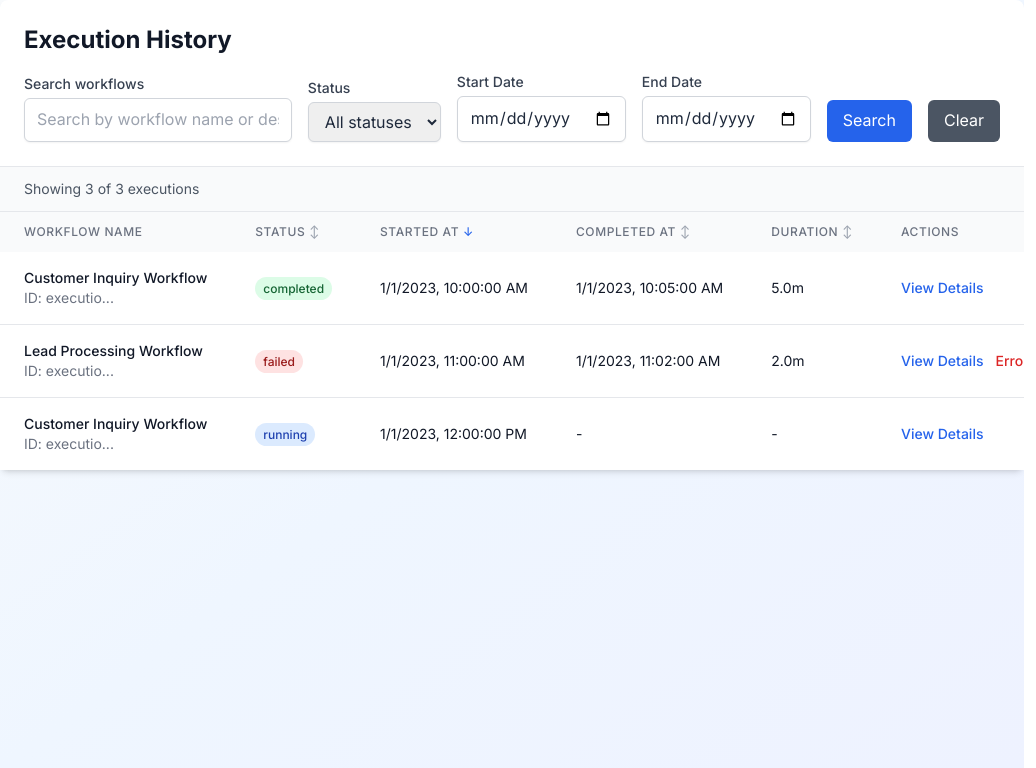
Test case: WorkflowExecutionHistory › handles clear filters
Note: Set some filters
Type "test" into the field with placeholder "Search by workflow name or description..." at coordinates (158, 120), box [24,98,292,142]
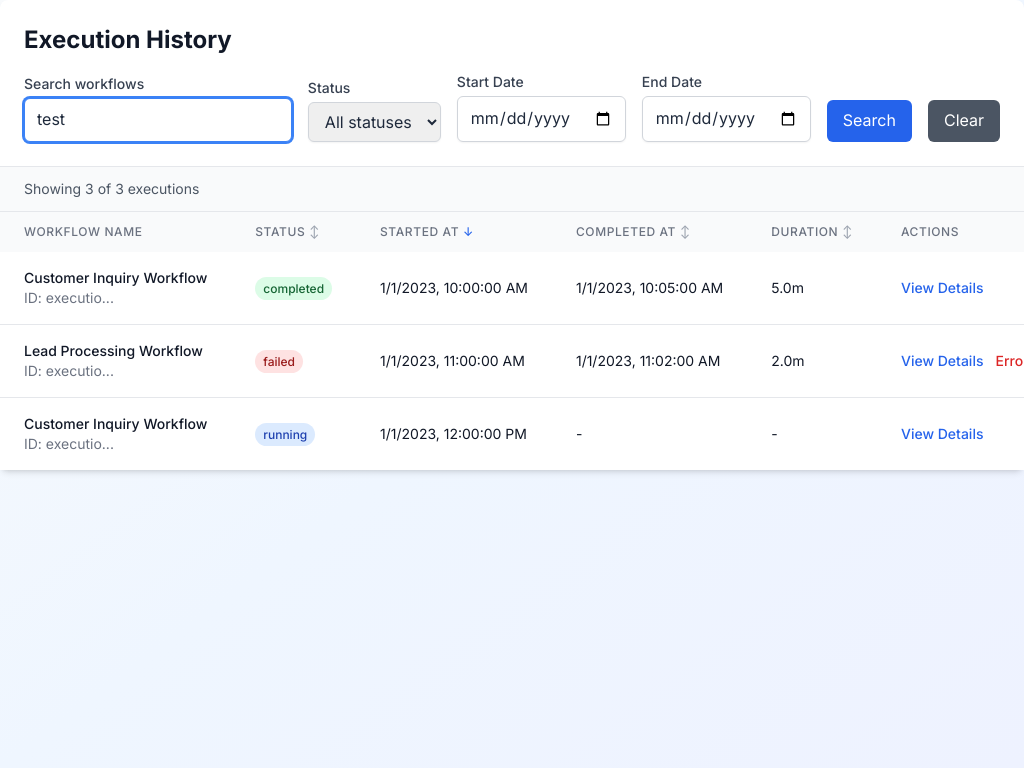
Select "Completed" in the dropdown showing "All statuses" at coordinates (374, 122), box [308,102,441,142]
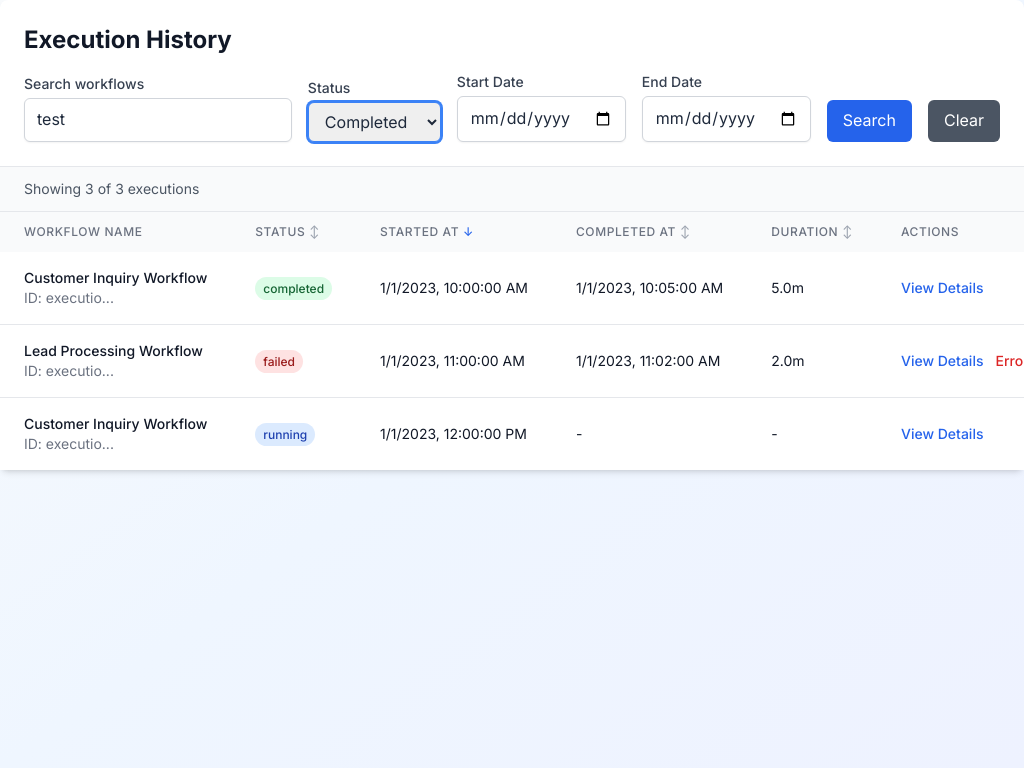
Type "2023-01-01" into the date field labelled "Start Date" at coordinates (541, 119), box [457,96,626,142]
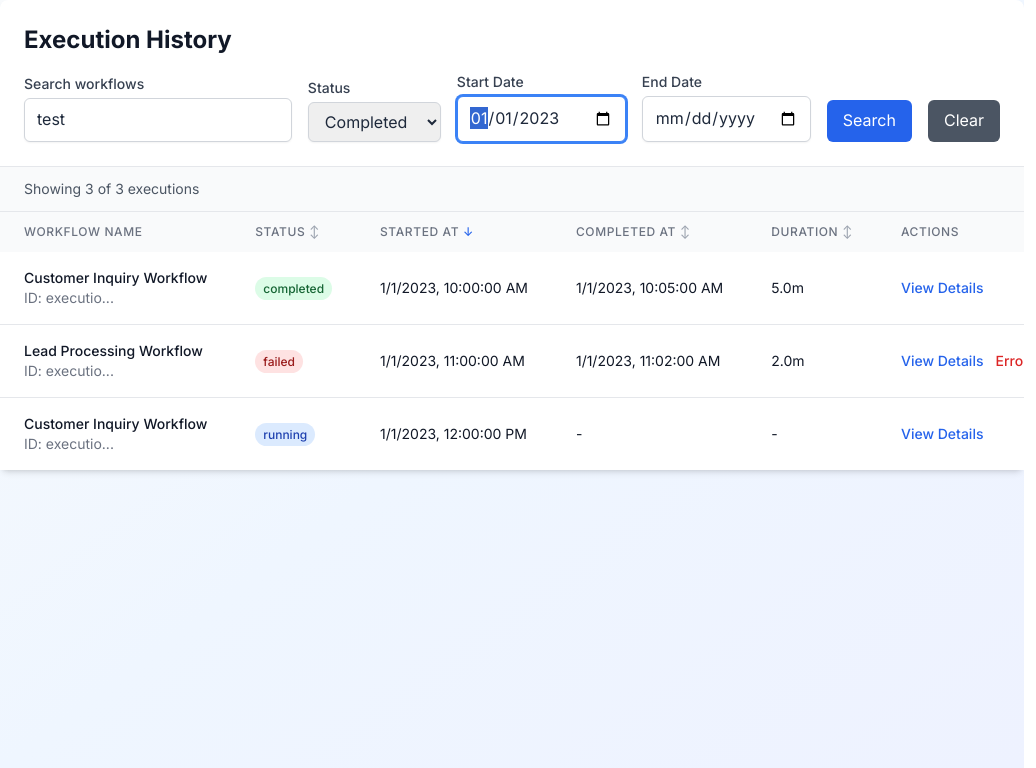
Note: Clear filters
Click the button "Clear" at coordinates (964, 121), box [928,100,1000,142]
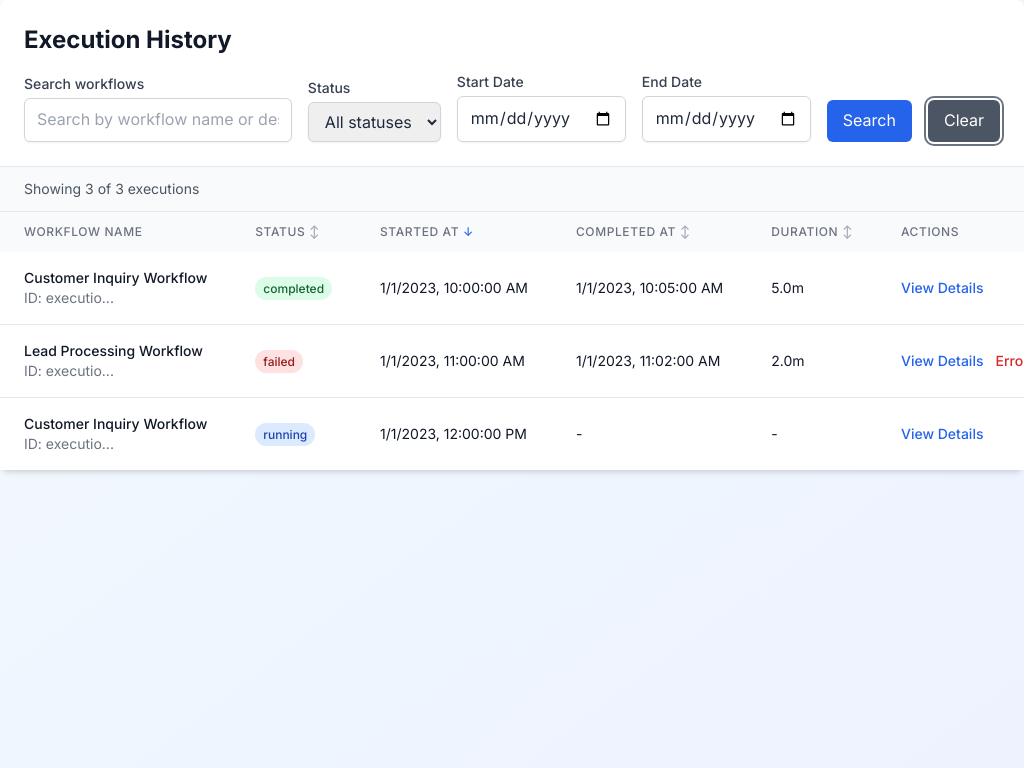
Now the field with placeholder "Search by workflow name or description..." is empty, box [24,98,292,142]
Now the date field labelled "Start Date" is empty, box [457,96,626,142]
